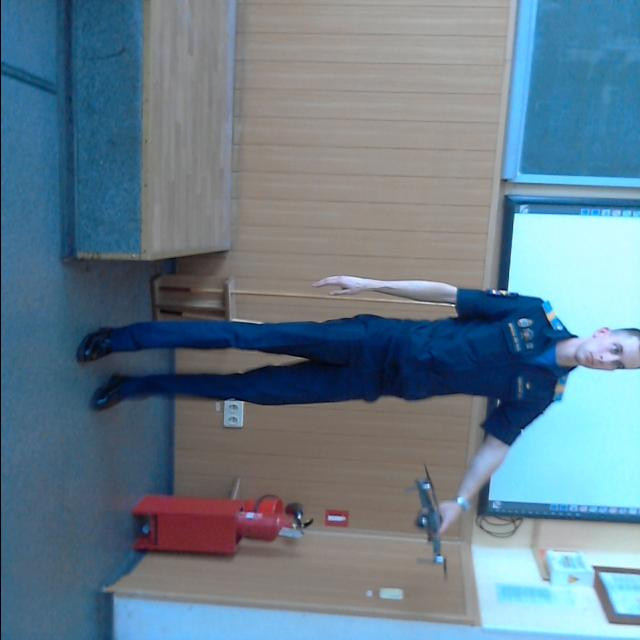drone: (408, 462, 462, 576)
